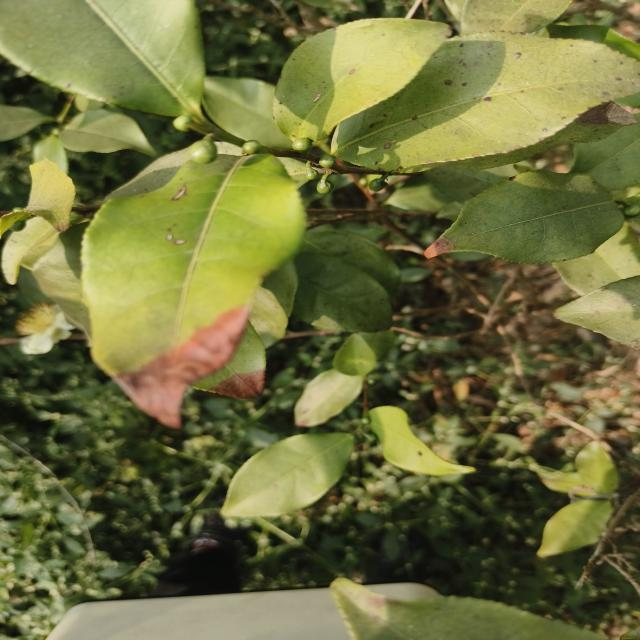Leaf: (81, 149, 306, 428), (332, 31, 640, 172), (0, 0, 205, 119), (273, 19, 449, 142), (425, 170, 624, 264), (221, 432, 354, 517), (292, 252, 391, 332), (369, 406, 475, 476), (203, 76, 291, 149), (555, 276, 640, 349), (60, 109, 155, 155), (537, 500, 612, 557), (294, 369, 363, 427)
